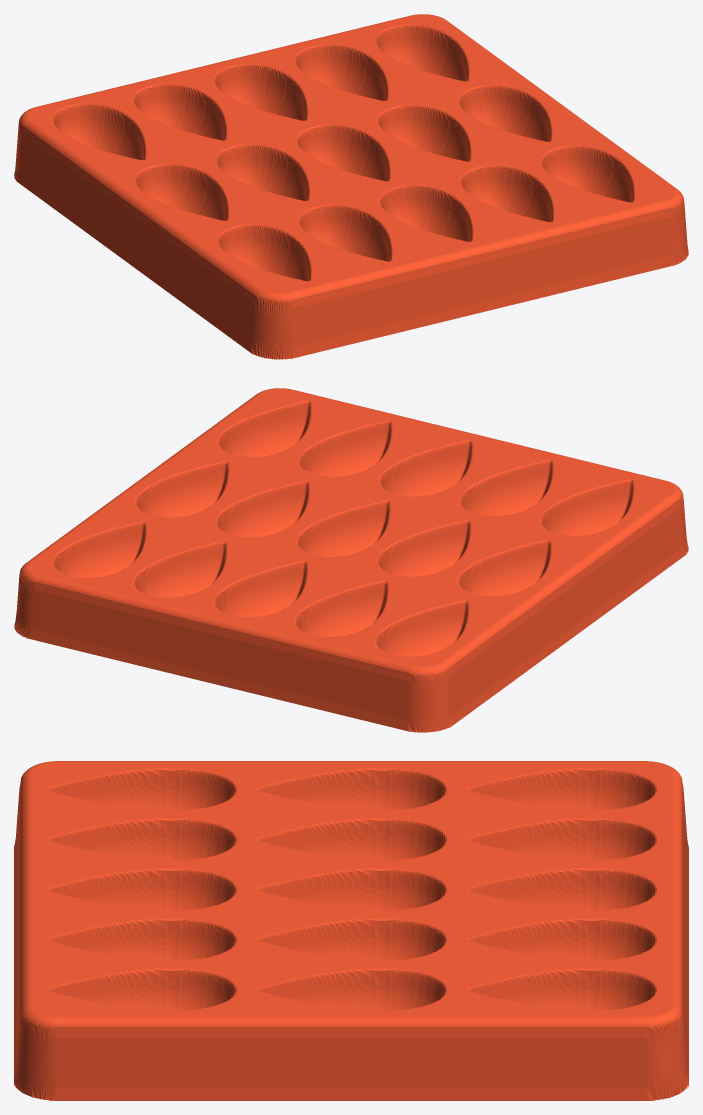
Rendered from mold.glb.
The picture shows the model from 3 angles, top to bottom: view 1: azimuth 30°, elevation 25°; view 2: azimuth 150°, elevation 25°; view 3: azimuth 270°, elevation 25°; orthographic projection. The views are drawn at different scales.
Visible parts, largest first — view 1: geometry_0; view 2: geometry_0; view 3: geometry_0.
Boxes of the visible parts, x1,y1,x2,y2 form: geometry_0: (14,14,688,359); geometry_0: (14,388,688,732); geometry_0: (14,761,688,1100).
Size of the model in its own units: 0.1314 by 0.0175 by 0.1392.
